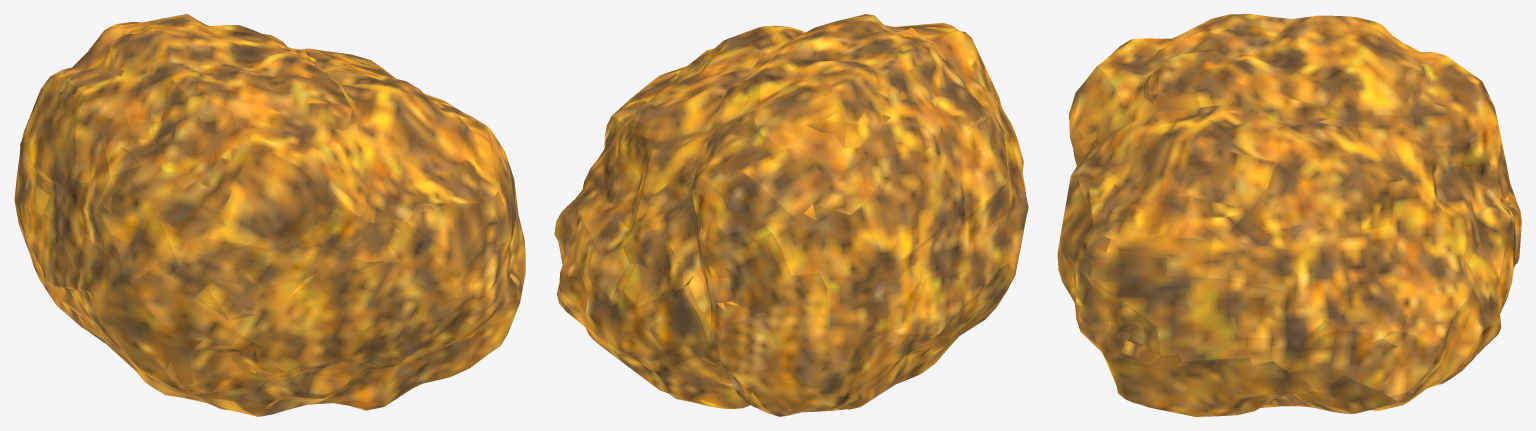
The model's file is meteor_yellow_03.glb.
3 renders of one model, left to right at view 1: azimuth 30°, elevation 25°; view 2: azimuth 150°, elevation 25°; view 3: azimuth 270°, elevation 25°, orthographic. The views are drawn at different scales.
Visible parts, largest first — view 1: Mesh1.0; view 2: Mesh1.0; view 3: Mesh1.0.
Boxes of the visible parts, left/top/right/bottom form: Mesh1.0: left=14, top=14, right=525, bottom=416; Mesh1.0: left=554, top=14, right=1028, bottom=416; Mesh1.0: left=1057, top=14, right=1521, bottom=416.
Bounding box in the file's own units: 1.87 × 1.46 × 1.9.
1 material, 1 textured.
